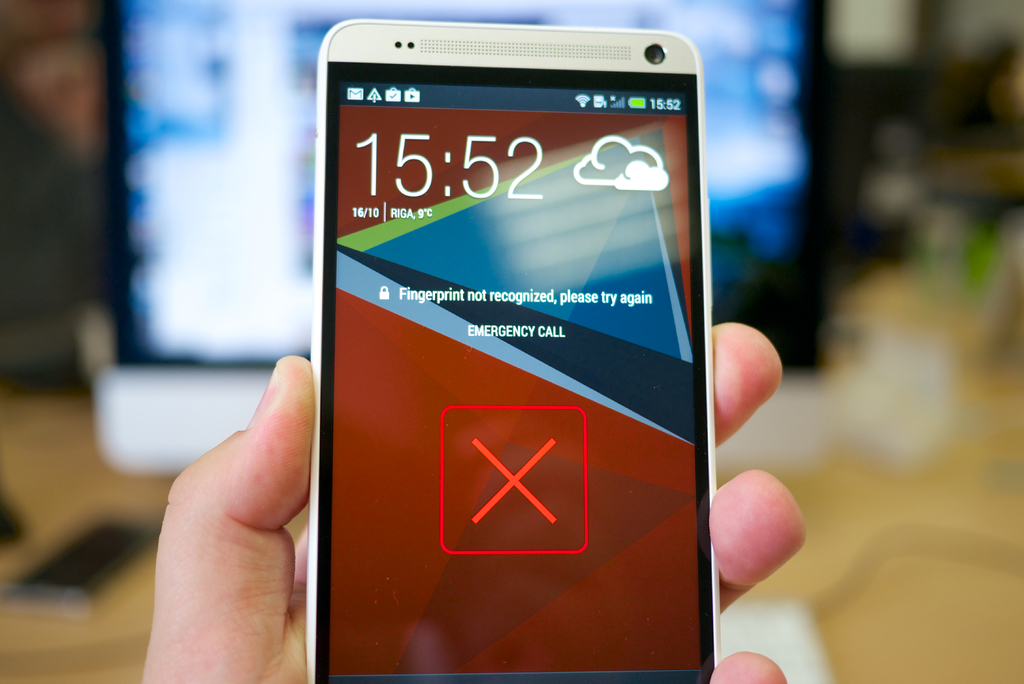Mobile-phone: (306, 2, 739, 684)
